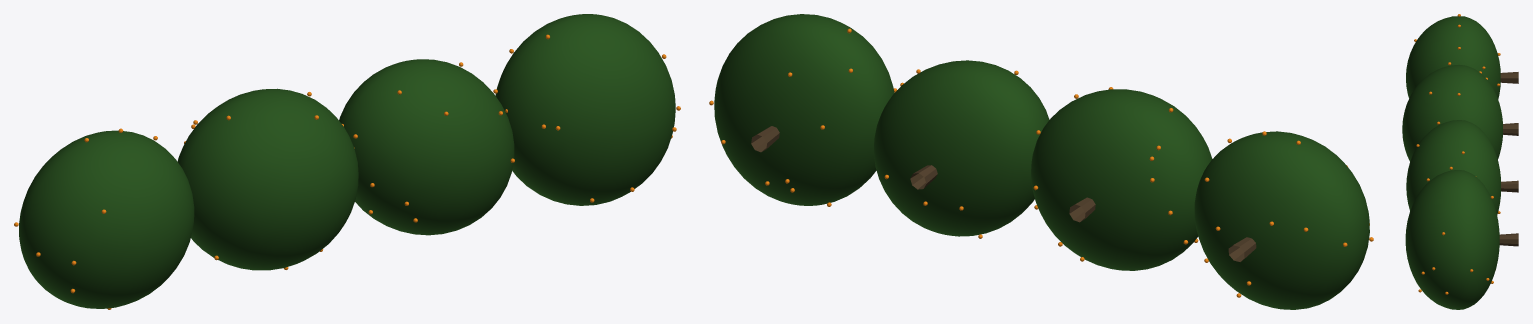
The model's file is citrus_plain4_b_fruit.obj.
The picture shows the model from 3 angles, left to right: view 1: azimuth 30°, elevation 25°; view 2: azimuth 150°, elevation 25°; view 3: azimuth 270°, elevation 25°; orthographic projection. The views are drawn at different scales.
Visible parts, largest first — view 1: canopy, fruit; view 2: canopy, trunk, fruit; view 3: canopy, trunk, fruit.
Boxes of the visible parts, bbox=[...] form: canopy: bbox=[19, 14, 675, 308]; fruit: bbox=[14, 34, 680, 309]; canopy: bbox=[714, 14, 1369, 309]; trunk: bbox=[751, 126, 1256, 261]; fruit: bbox=[709, 28, 1373, 297]; canopy: bbox=[1402, 16, 1502, 309]; trunk: bbox=[1499, 72, 1518, 246]; fruit: bbox=[1414, 14, 1500, 294].
Size of the model in its own units: 12.11 by 3.32 by 2.81.
